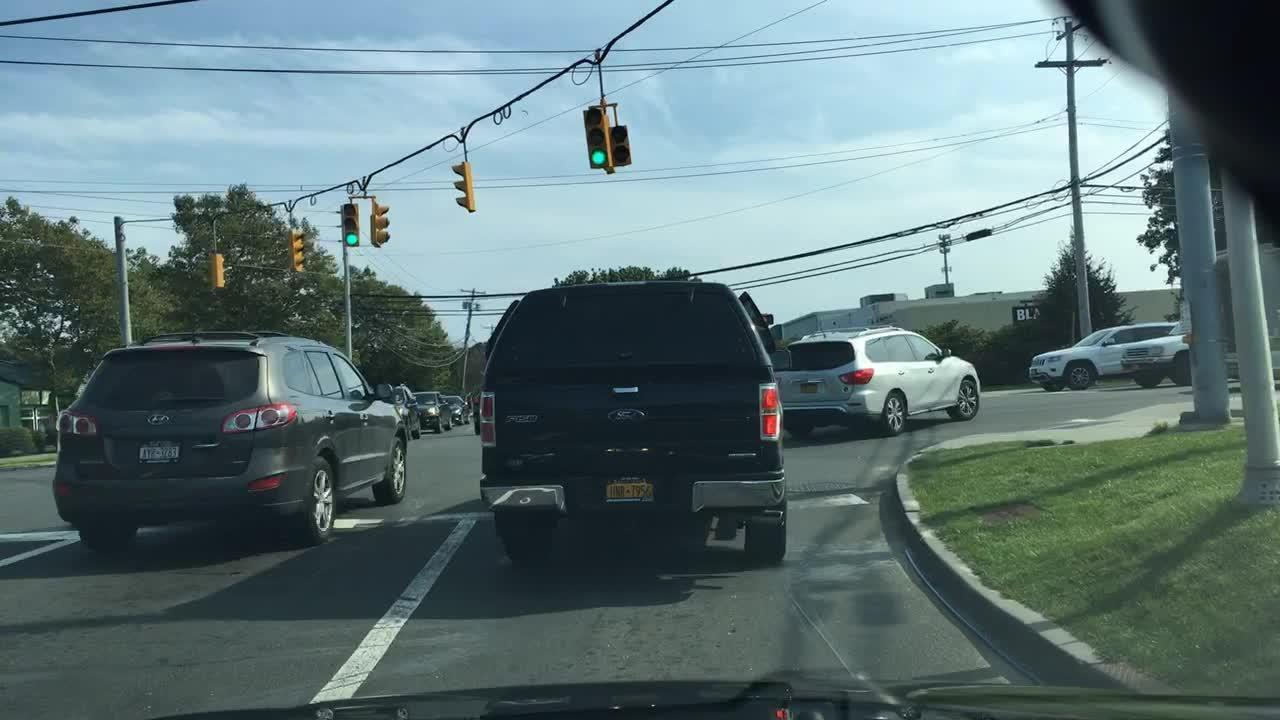Honda: (146, 412, 172, 426)
ford: (604, 406, 650, 428)
